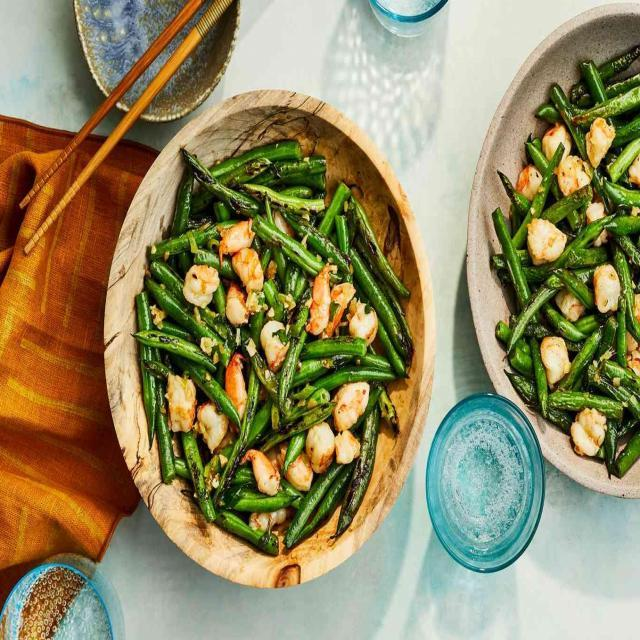Beans: (125, 137, 414, 564), (487, 34, 639, 473)
